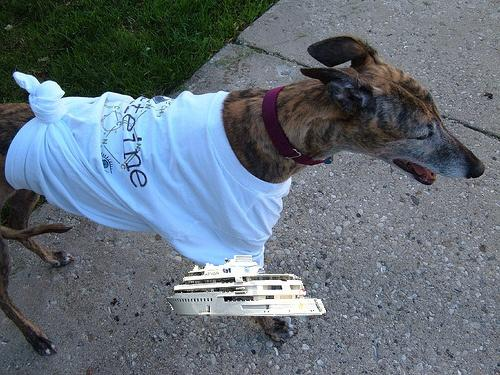tampered: (167, 256, 326, 316)
